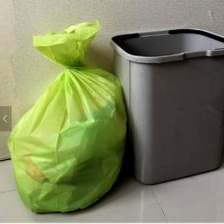plastic_bag: (0, 16, 136, 219)
